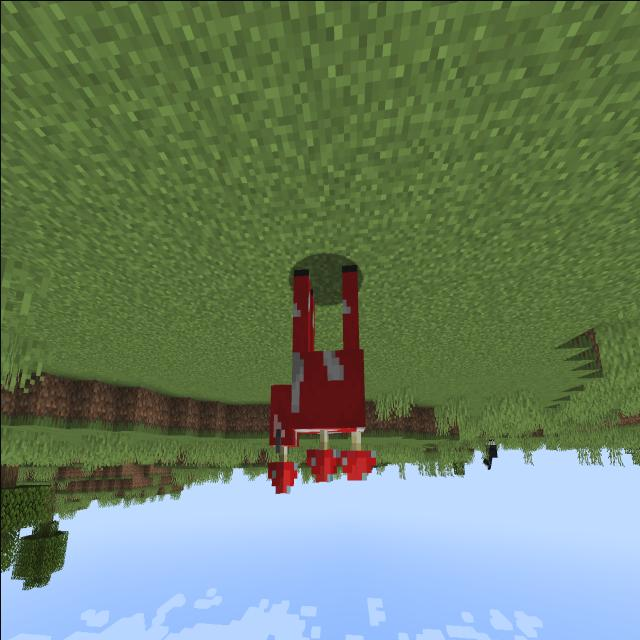Mooshroom: (258, 244, 380, 510)
